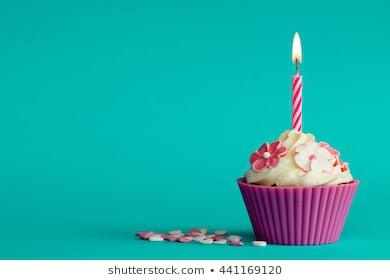fire: (288, 30, 302, 72)
